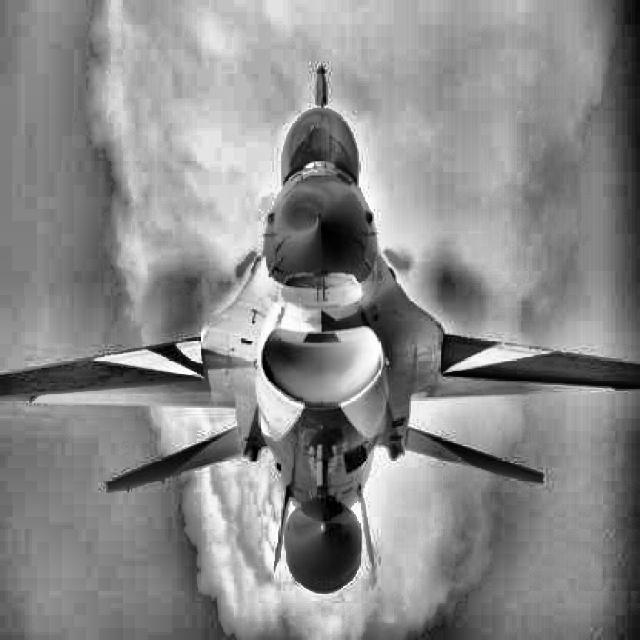F16: (1, 61, 639, 594)
